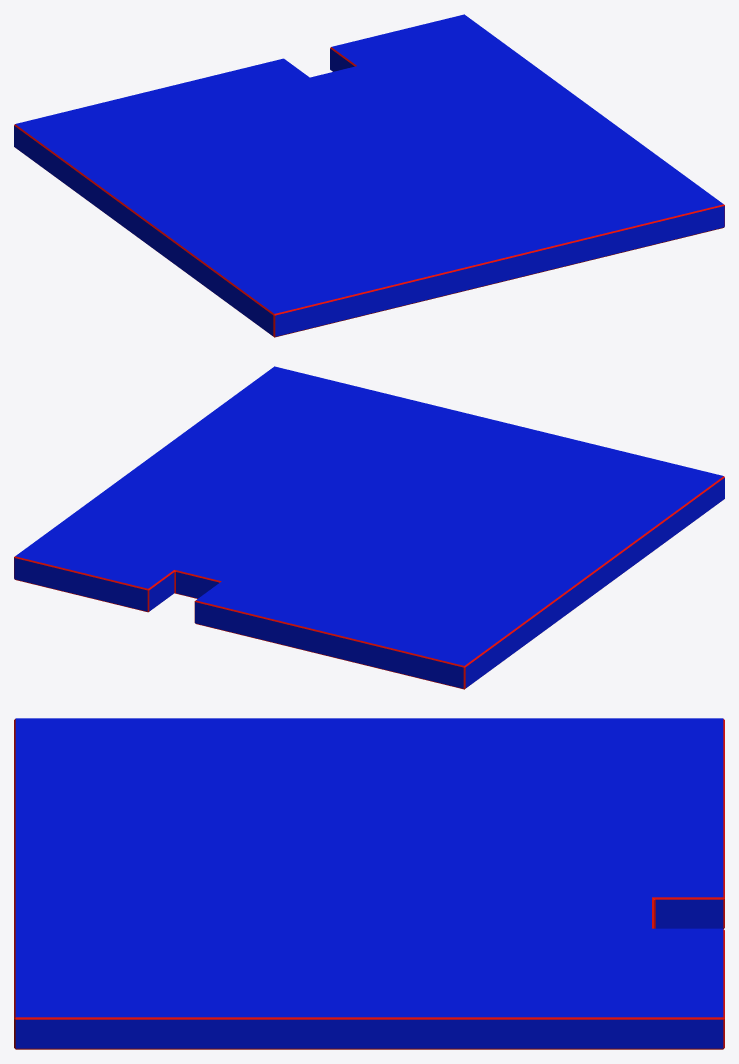
The model's file is L9_OuterCube_Floor.fbx.
3 views of the same model, one above another, from view 1: azimuth 30°, elevation 25°; view 2: azimuth 150°, elevation 25°; view 3: azimuth 270°, elevation 25° (orthographic). The views are drawn at different scales.
Visible parts, largest first — view 1: L9_OuterCube_Floor; view 2: L9_OuterCube_Floor; view 3: L9_OuterCube_Floor.
Boxes of the visible parts, x1,y1,x2,y2 form: L9_OuterCube_Floor: [14, 14, 724, 337]; L9_OuterCube_Floor: [14, 366, 724, 689]; L9_OuterCube_Floor: [14, 718, 724, 1049].
Bounding box in the file's own units: 2000 × 100 × 2000.
